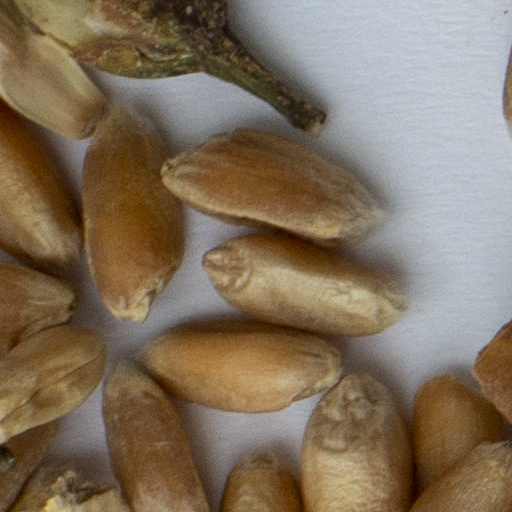Peel-poly: (25, 0, 325, 132), (0, 0, 117, 139), (474, 323, 511, 417), (48, 477, 129, 511)
